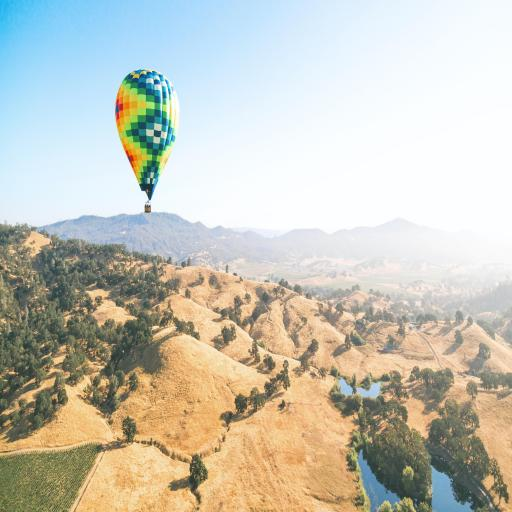hot air ballon: (116, 68, 180, 213)
